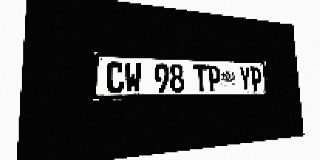8: (170, 64, 185, 92)
9: (154, 63, 170, 93)
C: (106, 62, 124, 93)
P: (207, 65, 221, 92), (250, 67, 262, 91)
T: (194, 65, 208, 92)
W: (125, 62, 142, 93)
Y: (239, 66, 251, 91)
